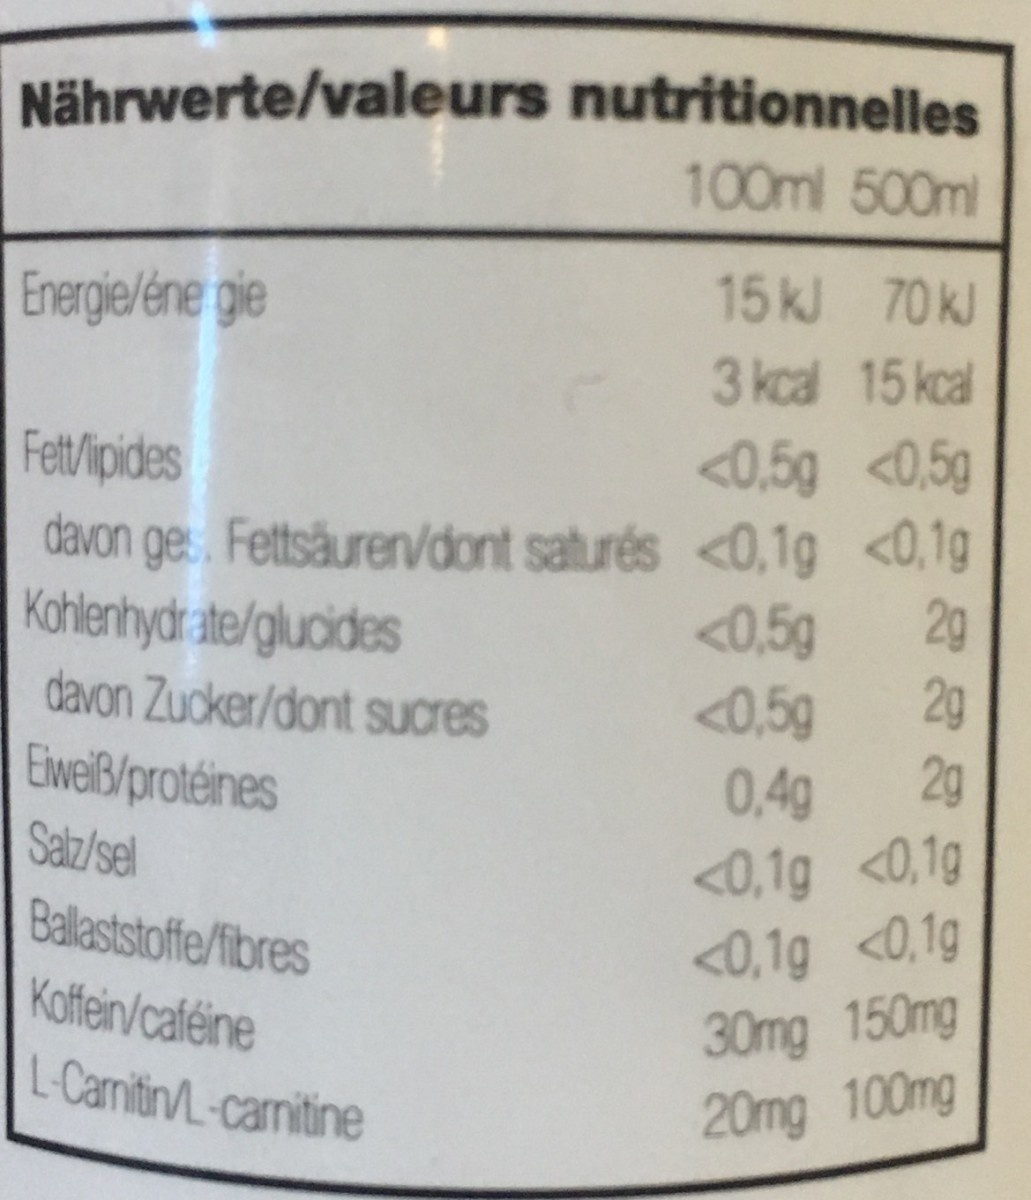column: (12, 156, 661, 1143), (688, 156, 827, 1147), (847, 151, 985, 1134)
table: (1, 38, 1001, 1185)
